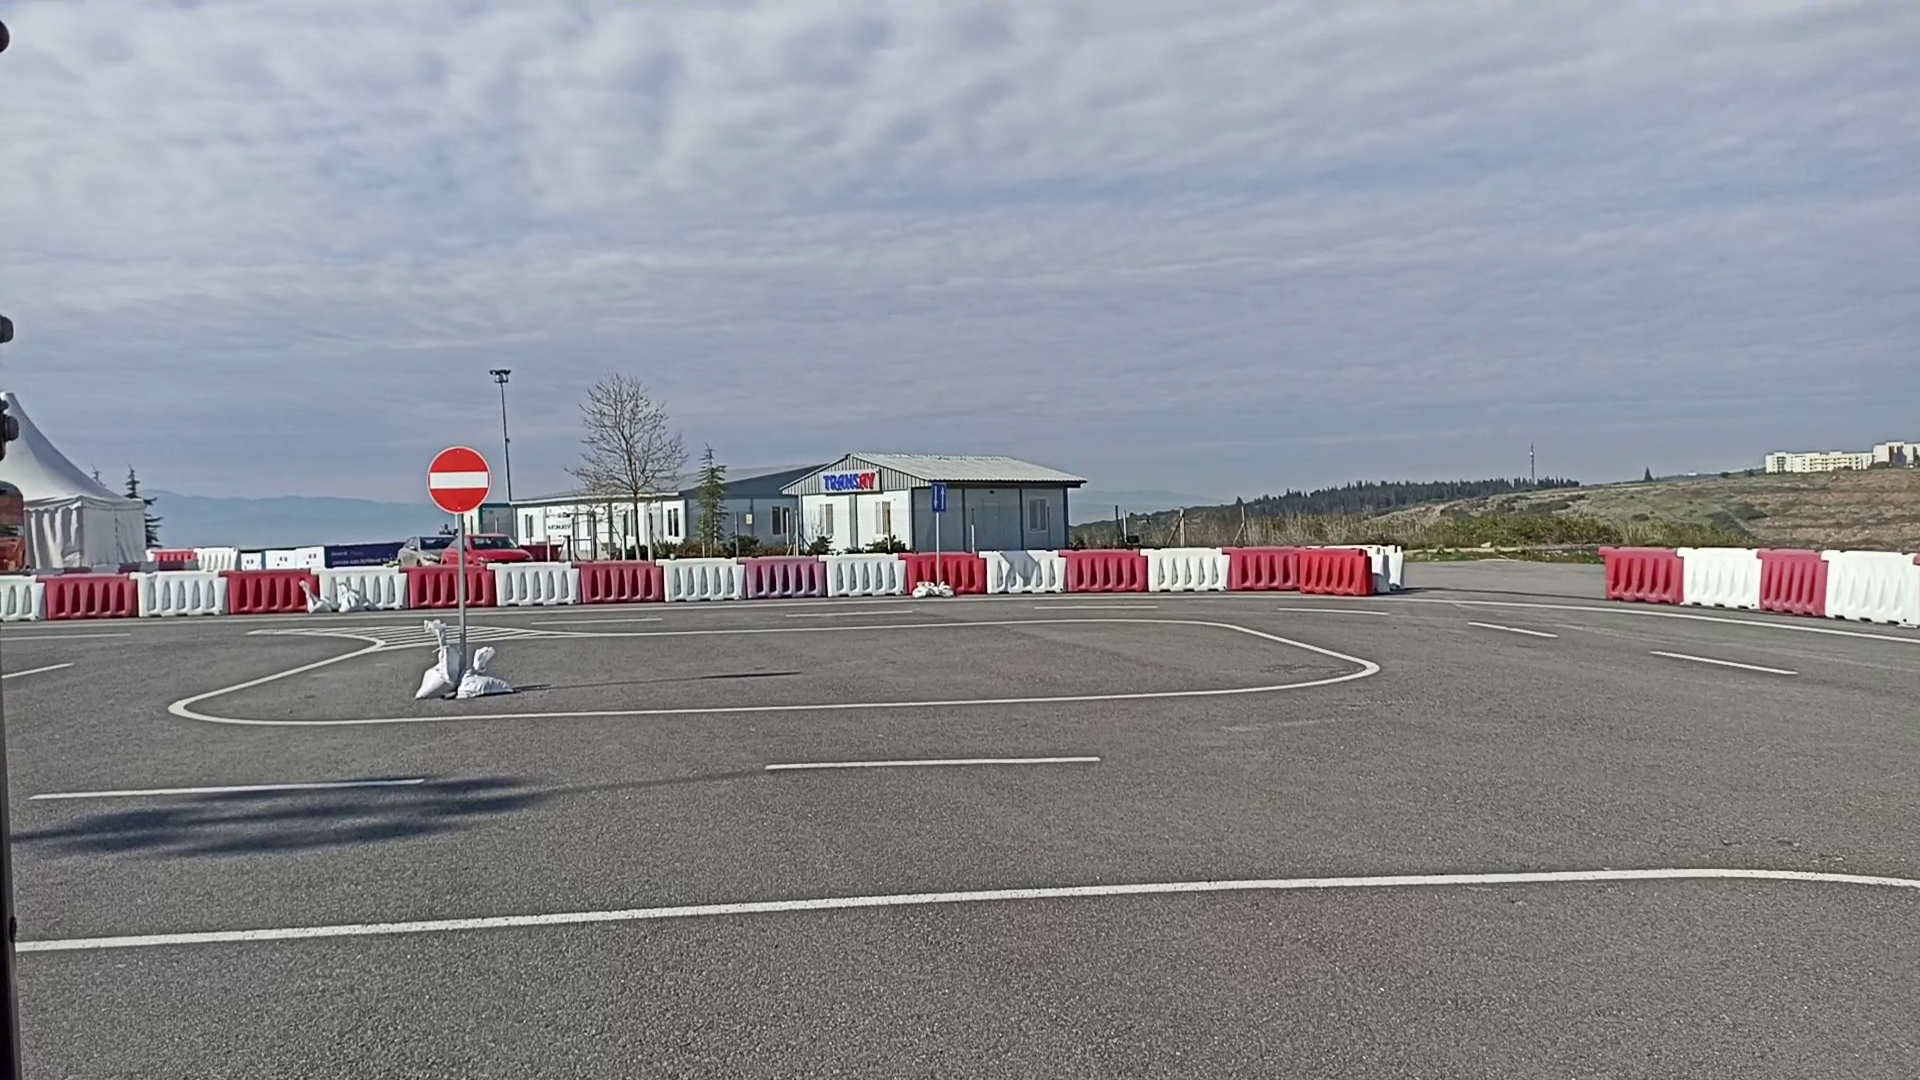noentryway: (425, 444, 493, 516)
